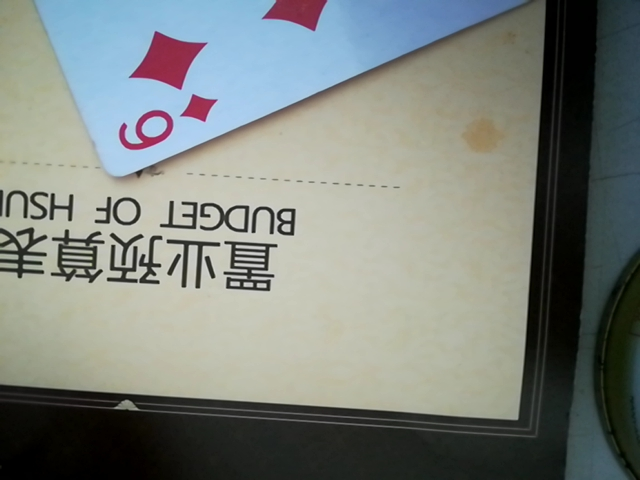fk 6: (5, 0, 540, 181)
